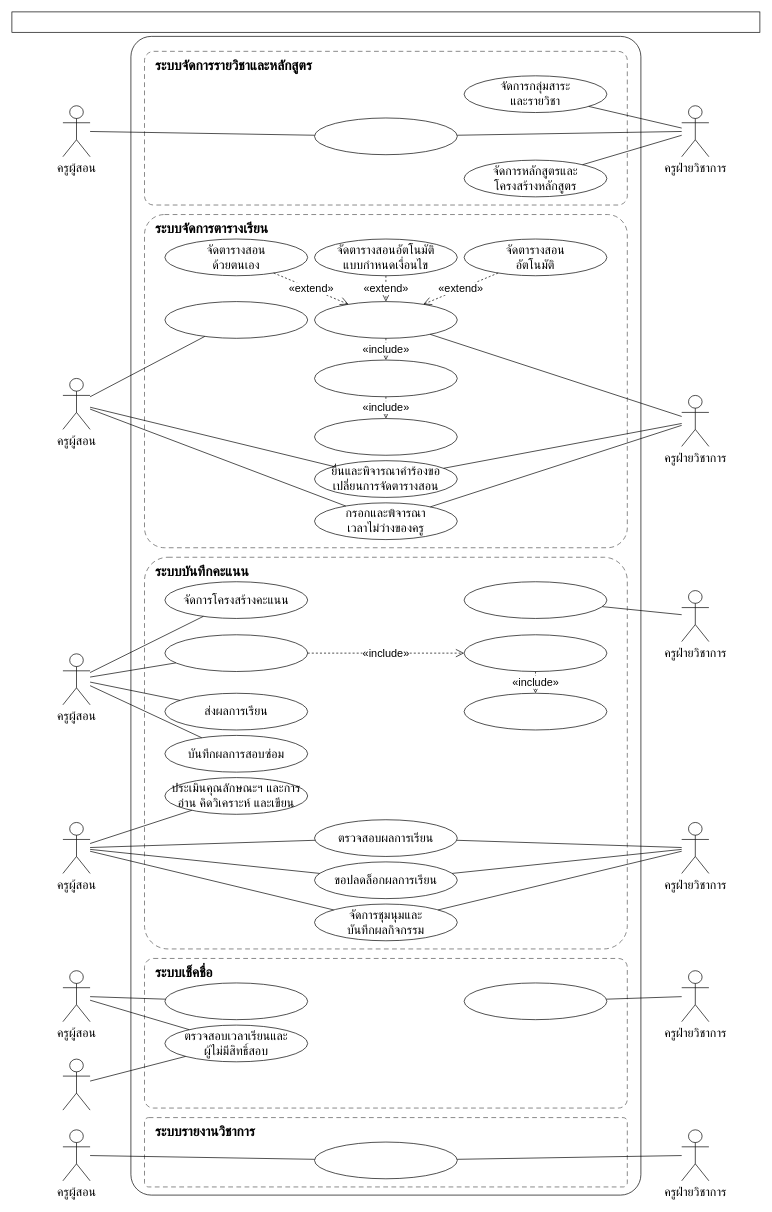
Image size: 772x1212. Some labels were removed from this diagram. Here are the shapes that lost their labels. From the top down, the centre of each, then its label:
the point at 385,21: ระบบบริหารจัดการงานวิชาการ
the point at 385,136: ดูข้อมูลหลักสูตร และรายวิชา
the point at 236,319: ดูตารางสอน ของตนเอง
the point at 385,319: จัดการตารางสอน
the point at 385,378: ตรวจสอบการชนกัน ของข้อมูล
the point at 385,436: บันทึกตารางสอน และเผยแพร่ตาราง
the point at 535,599: ตรวจและอนุมัติ ผลการเรียน
the point at 236,653: บันทึกคะแนน
the point at 535,653: คำนวณผลการเรียน อัตโนมัติ
the point at 535,711: ตรวจสอบสถานะ ผ่าน/ไม่ผ่านเกณฑ์
the point at 236,1001: เช็คชื่อนักเรียนรายคาบ
the point at 535,1001: กำหนดวันหยุด ของโรงเรียน
the point at 76,1084: ครูประจำชั้น
the point at 385,1160: ดูรายงานวิชาการ
